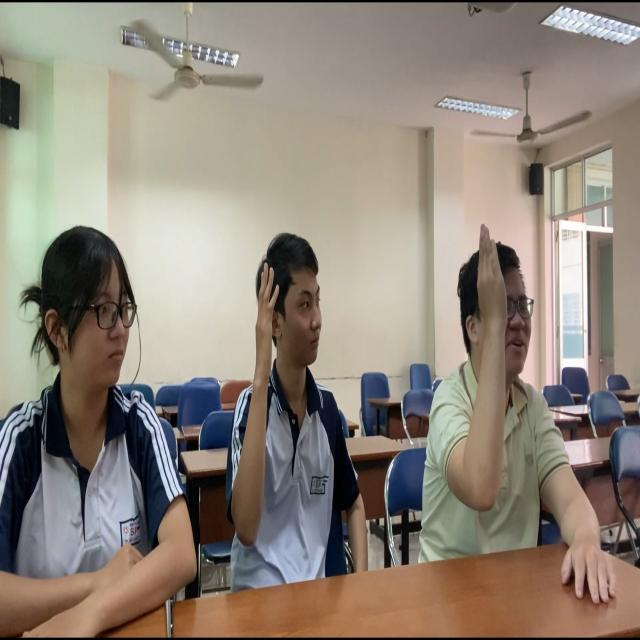raise_hand: (412, 189, 631, 623), (216, 187, 390, 640)
